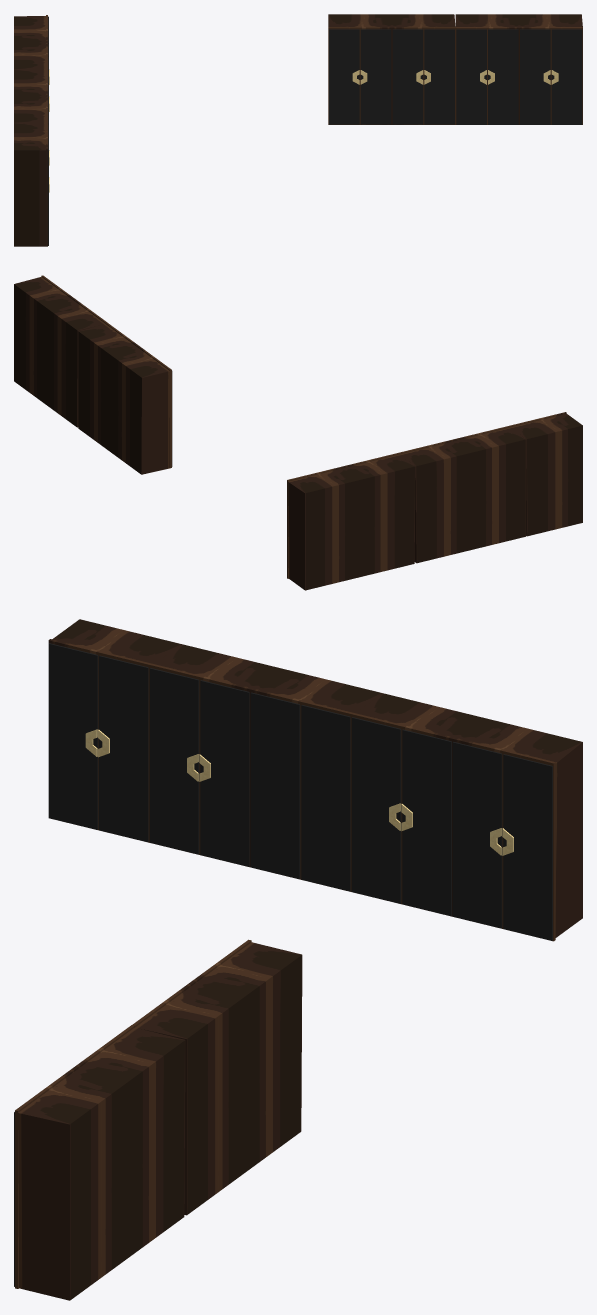
File: CocinaGabinetes.fbx
The picture shows the model from 3 angles, top to bottom: view 1: azimuth 30°, elevation 25°; view 2: azimuth 150°, elevation 25°; view 3: azimuth 270°, elevation 25°; orthographic projection. The views are drawn at different scales.
Visible parts, largest first — view 1: Objeto_3294.004, Objeto_3294.005, Objeto_3294.003, Objeto_3294.002, Objeto_3294.001; view 2: Objeto_3294.001, Objeto_3294.002, Objeto_3294.004, Objeto_3294.005, Objeto_3294.003; view 3: Objeto_3294.001, Objeto_3294.002, Objeto_3294.005, Objeto_3294.004, Objeto_3294.003.
Part boxes in pixels (bbox=[...]): Objeto_3294.004: bbox=[328, 14, 455, 124]; Objeto_3294.005: bbox=[455, 14, 582, 124]; Objeto_3294.003: bbox=[14, 122, 48, 246]; Objeto_3294.002: bbox=[14, 68, 48, 124]; Objeto_3294.001: bbox=[14, 15, 48, 70]; Objeto_3294.001: bbox=[287, 453, 415, 590]; Objeto_3294.002: bbox=[399, 425, 526, 563]; Objeto_3294.004: bbox=[78, 322, 172, 474]; Objeto_3294.005: bbox=[14, 275, 107, 427]; Objeto_3294.003: bbox=[510, 412, 582, 536]; Objeto_3294.001: bbox=[351, 693, 582, 941]; Objeto_3294.002: bbox=[149, 644, 382, 891]; Objeto_3294.005: bbox=[14, 1025, 185, 1300]; Objeto_3294.004: bbox=[132, 939, 302, 1215]; Objeto_3294.003: bbox=[48, 619, 181, 842].
Size of the model in its own units: 15.37 by 2.53 by 7.32.
Materials: 4 (2 with a texture image).
